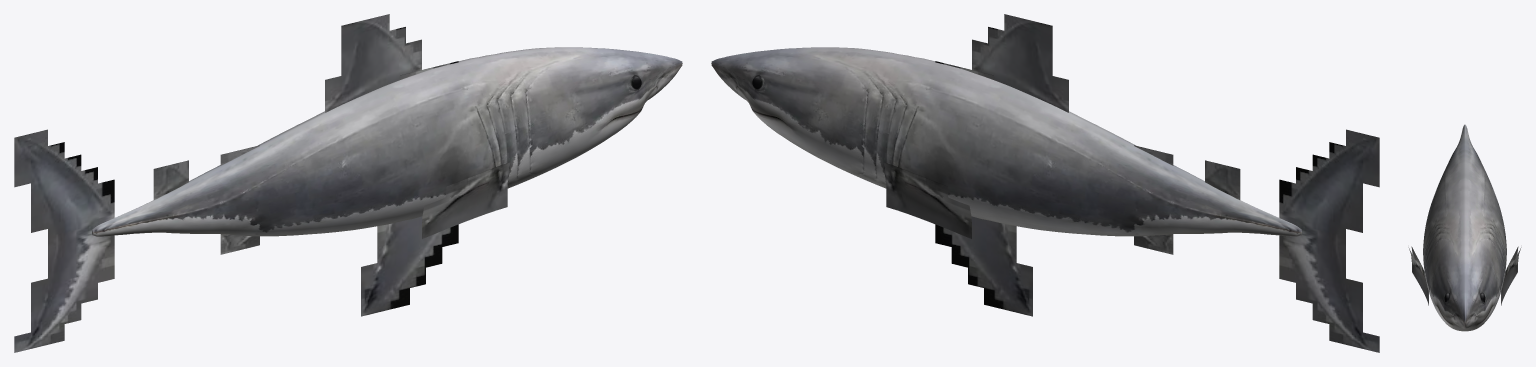
File: real-carcharodon_carcharias.glb
3 renders of one model, left to right at view 1: azimuth 30°, elevation 25°; view 2: azimuth 150°, elevation 25°; view 3: azimuth 270°, elevation 25°, orthographic. The views are drawn at different scales.
Parts seen in each view (by area): view 1: carcharodon_carcharias; view 2: carcharodon_carcharias; view 3: carcharodon_carcharias.
Boxes of the visible parts, bbox=[...] form: carcharodon_carcharias: bbox=[14, 14, 682, 352]; carcharodon_carcharias: bbox=[711, 14, 1379, 352]; carcharodon_carcharias: bbox=[1408, 124, 1521, 331].
Size of the model in its own units: 6.41 by 2.71 by 1.27.
1 material, 1 textured.
